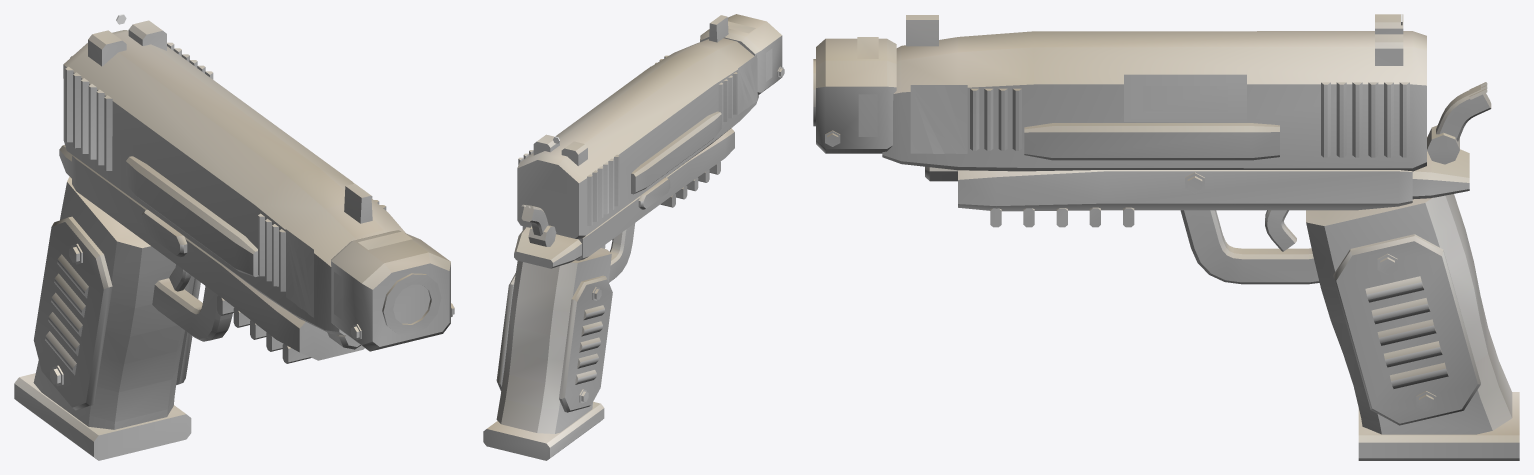
The model's file is hand-cannon-m-left.glb.
The picture shows the model from 3 angles, left to right: view 1: azimuth 30°, elevation 25°; view 2: azimuth 150°, elevation 25°; view 3: azimuth 270°, elevation 25°; orthographic projection. The views are drawn at different scales.
Parts seen in each view (by area): view 1: Slide, Body, Barrel; view 2: Body, Slide, Barrel, Hammer; view 3: Slide, Body, Barrel, Hammer.
Boxes of the visible parts, x1,y1,x2,y2 form: Slide: (63,14,405,335); Body: (14,145,364,460); Barrel: (331,230,454,351); Body: (483,128,734,460); Slide: (517,15,758,238); Barrel: (700,14,784,94); Hammer: (521,204,556,246); Slide: (882,14,1426,171); Body: (925,136,1519,460); Barrel: (813,37,896,153); Hammer: (1427,82,1491,164).
Bounding box in the file's own units: 0.3115 × 1.06 × 1.6.
